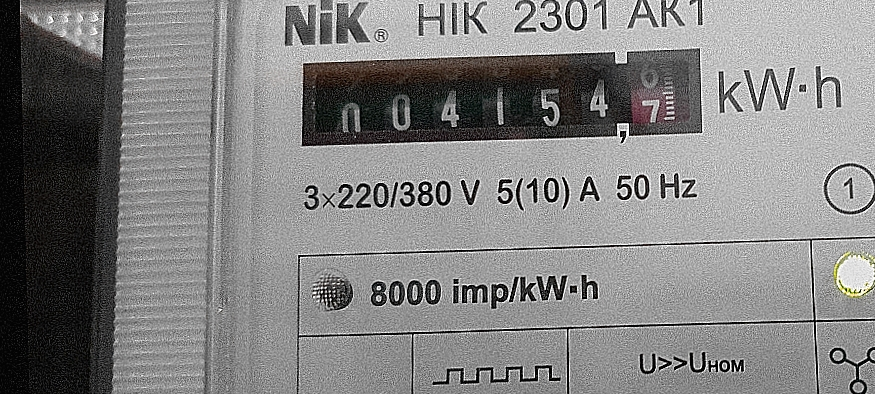0: (388, 90, 412, 132), (338, 97, 361, 132)
1: (492, 84, 506, 126)
4: (437, 87, 461, 129), (587, 74, 608, 119)
5: (537, 82, 562, 127)
6: (638, 59, 660, 89)
7: (639, 95, 660, 124)
screen: (283, 33, 719, 159)
